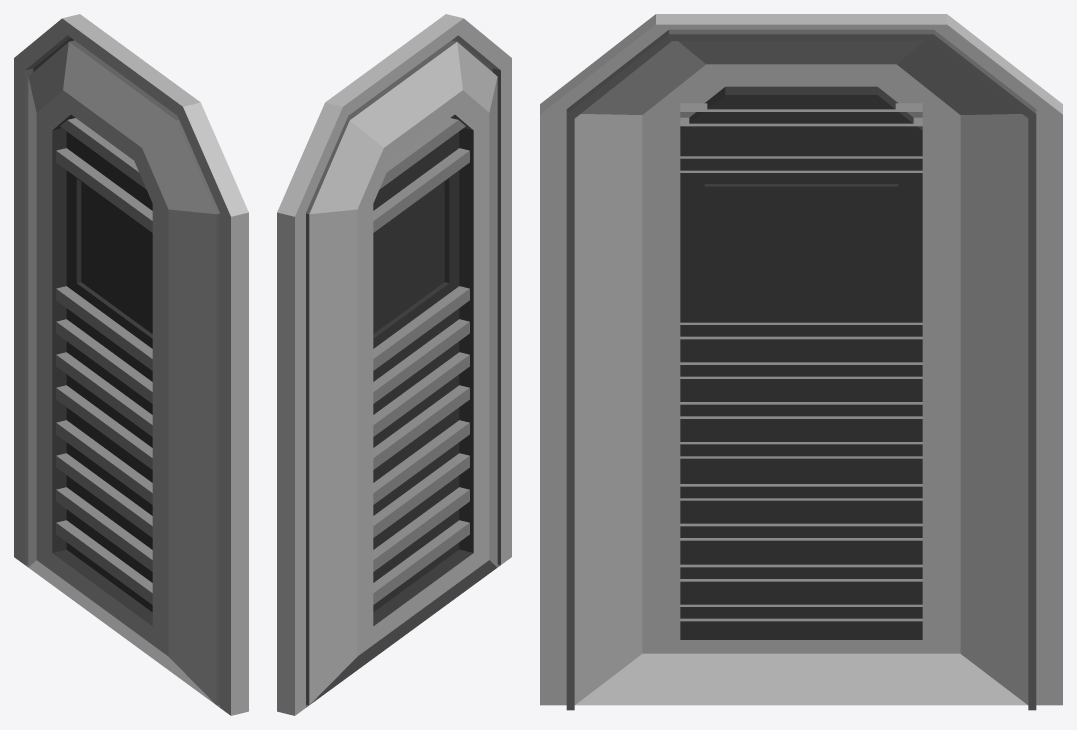
Rendered from door_static_B.FBX.
3 renders of one model, left to right at view 1: azimuth 30°, elevation 25°; view 2: azimuth 150°, elevation 25°; view 3: azimuth 270°, elevation 25°, orthographic. The views are drawn at different scales.
Parts seen in each view (by area): view 1: door_static_B; view 2: door_static_B; view 3: door_static_B.
Part boxes in pixels (<box>): door_static_B: <box>14,14,248,715</box>; door_static_B: <box>277,14,511,715</box>; door_static_B: <box>540,14,1062,710</box>.
Size of the model in its own units: 10.32 by 149 by 102.
